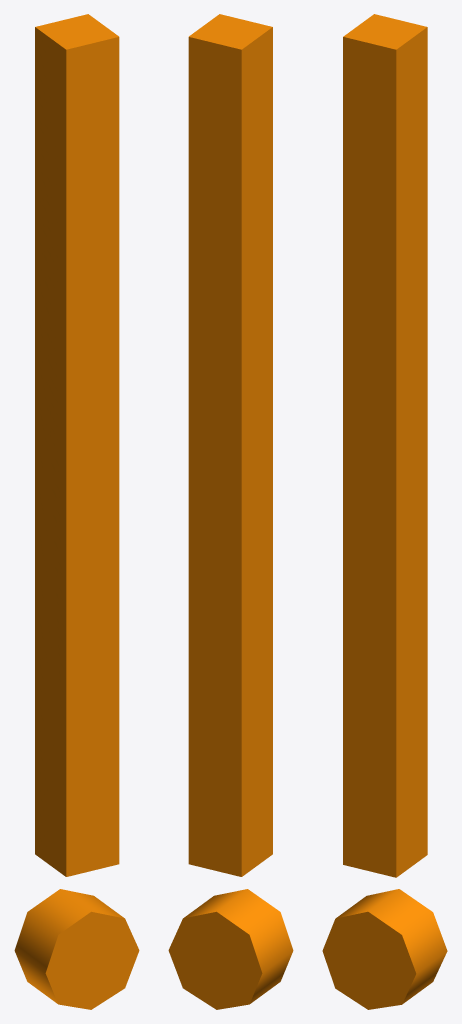
Rendered from Exclamation.FBX.
The picture shows the model from 3 angles, left to right: view 1: azimuth 30°, elevation 25°; view 2: azimuth 150°, elevation 25°; view 3: azimuth 330°, elevation 25°; orthographic projection.
Parts seen in each view (by area): view 1: Exclamation; view 2: Exclamation; view 3: Exclamation.
Boxes of the visible parts, bbox=[...] form: Exclamation: bbox=[14, 14, 139, 1009]; Exclamation: bbox=[168, 14, 293, 1009]; Exclamation: bbox=[322, 14, 447, 1009].
Bounding box in the file's own units: 8.71 × 85.67 × 5.
